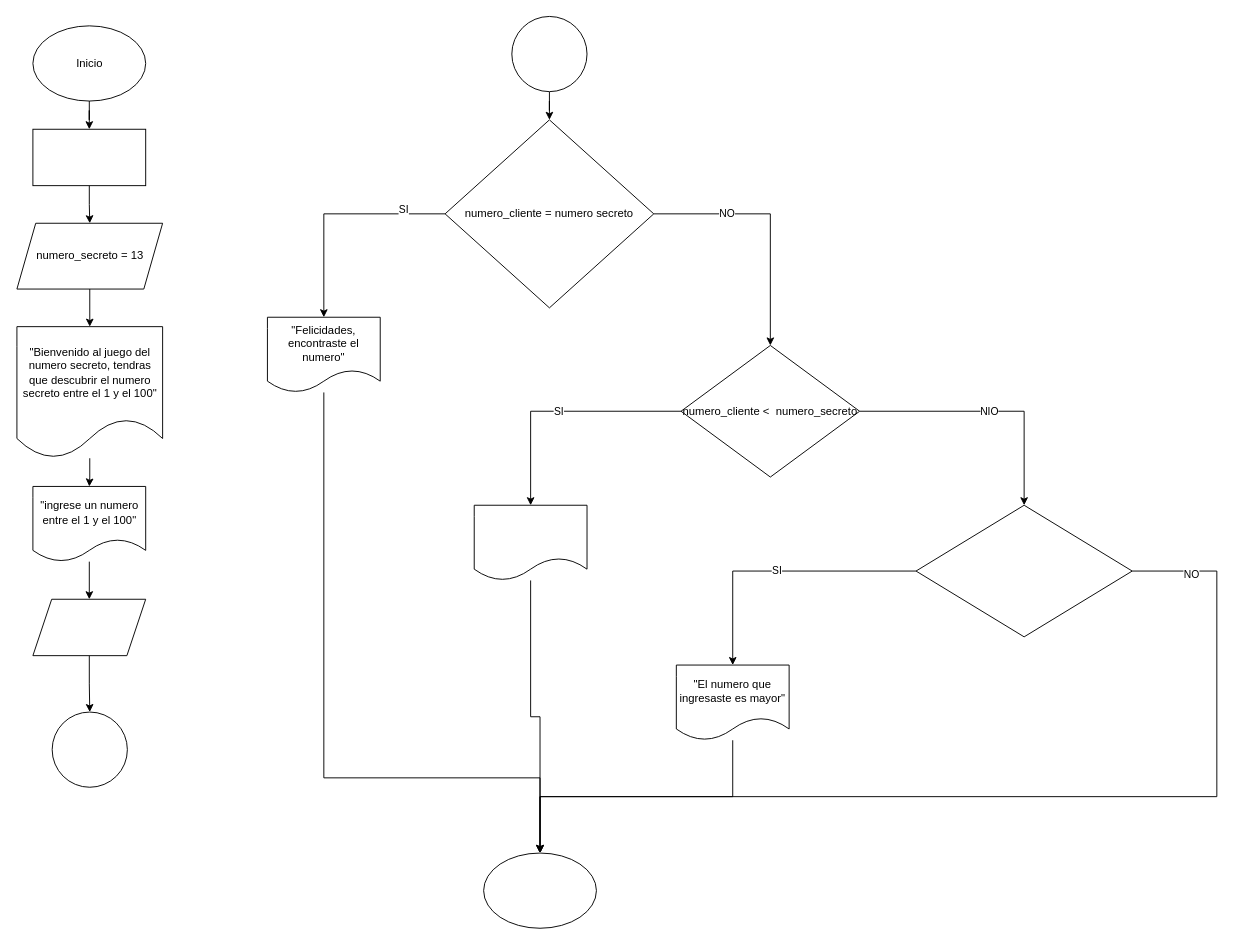
This 1241x945 diagram has some shape labels left out. The box of each missing label's shape, as (x1, y1, x2, y2) in pixels:
"El numero que ingresaste es menor": (473, 504, 587, 580)
numero_cliente: (32, 598, 146, 656)
numero_cliente > numero_secreto: (915, 504, 1132, 637)
numero_cliente, numero_secreto: (32, 128, 146, 186)
